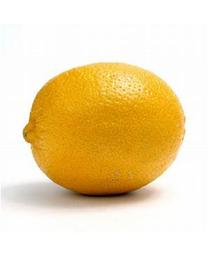lemon: (22, 61, 184, 195)
